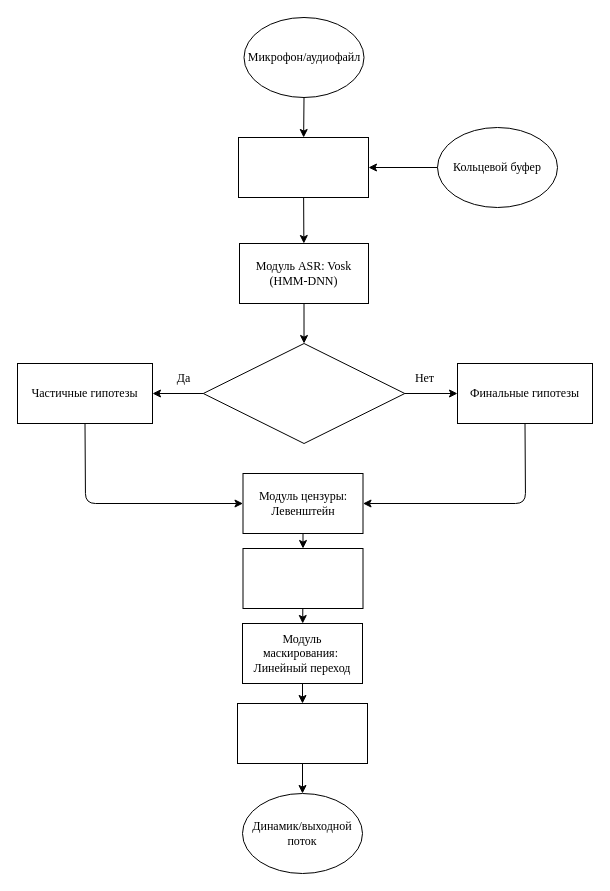
The diagram is 610 pixels wide and 891 high, and some of its shapes have lost their labels. The centre of each missing label's shape, as x and y in pixels:
Кольцевой буфер без блокировки: the point at 303,167
Кольцевой буфер без блокировки (цензурированный): the point at 302,733
Промежуточные гипотезы включены?: the point at 303,393
Список интервалов M: the point at 302,578
